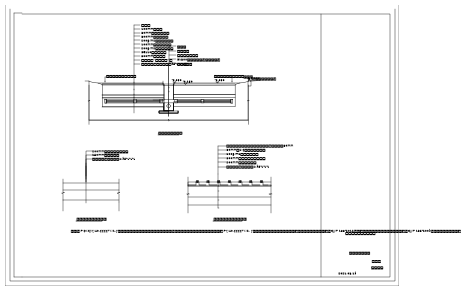door: (183, 192, 199, 193)
room: (373, 9, 454, 282), (216, 75, 313, 112), (99, 179, 193, 212), (193, 179, 287, 212), (187, 181, 199, 189)
wall: (99, 170, 287, 172), (286, 167, 288, 208), (98, 167, 100, 208), (216, 105, 225, 108), (229, 105, 238, 108), (241, 105, 250, 108), (254, 105, 263, 108), (266, 105, 275, 108), (279, 105, 288, 108), (292, 105, 301, 108), (182, 189, 186, 193), (151, 189, 155, 193), (200, 189, 204, 193), (231, 189, 235, 193), (287, 207, 290, 212), (266, 189, 269, 193), (118, 189, 120, 193)
